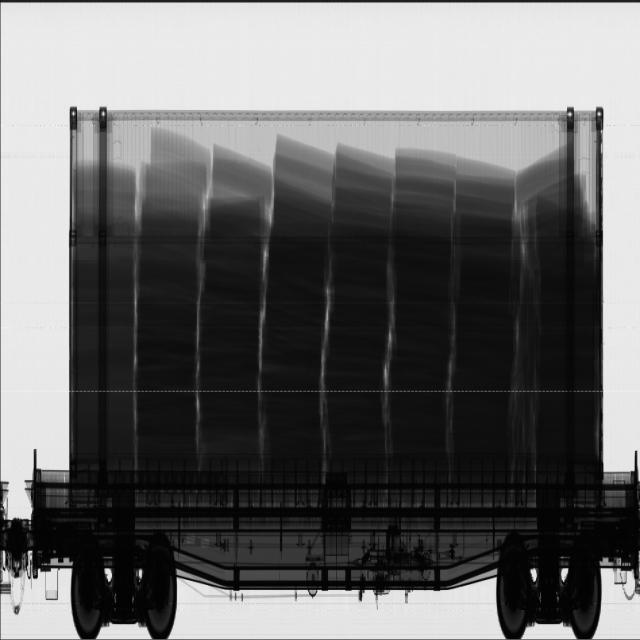fabrics: (72, 130, 599, 467)
